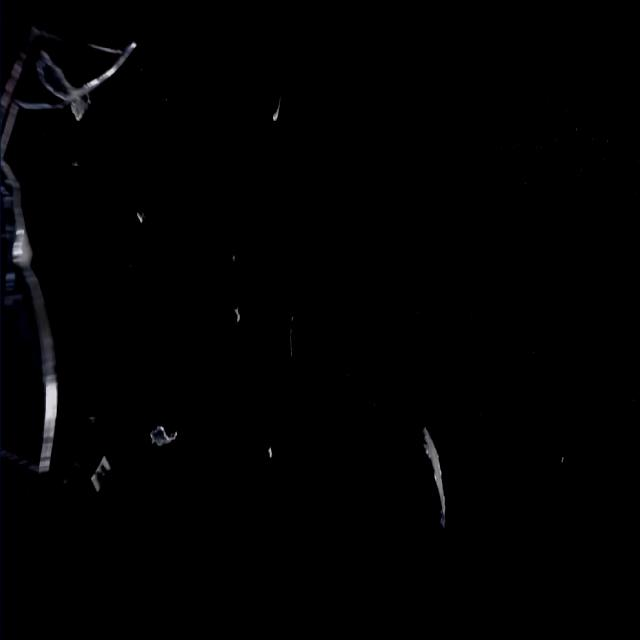large_debris: (0, 10, 120, 447), (409, 423, 448, 516), (82, 453, 116, 514), (144, 414, 177, 470), (278, 308, 296, 378)
